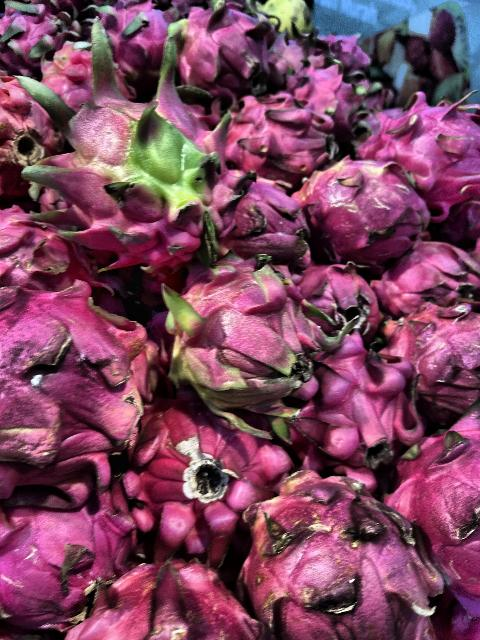buah-naga-belum-matang: (11, 45, 242, 273), (165, 260, 328, 432), (300, 157, 428, 271)
buah-naga-matang: (233, 466, 431, 640), (4, 278, 138, 504), (0, 470, 142, 640), (124, 406, 270, 552), (295, 325, 433, 471), (68, 542, 248, 640), (384, 405, 480, 581), (358, 102, 480, 218), (382, 293, 480, 432), (215, 84, 343, 180), (384, 221, 480, 331), (219, 168, 321, 266)
